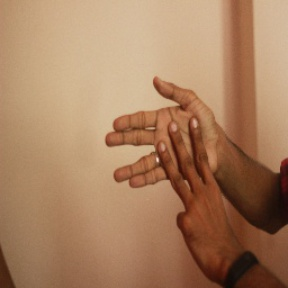M: (99, 72, 232, 206)
